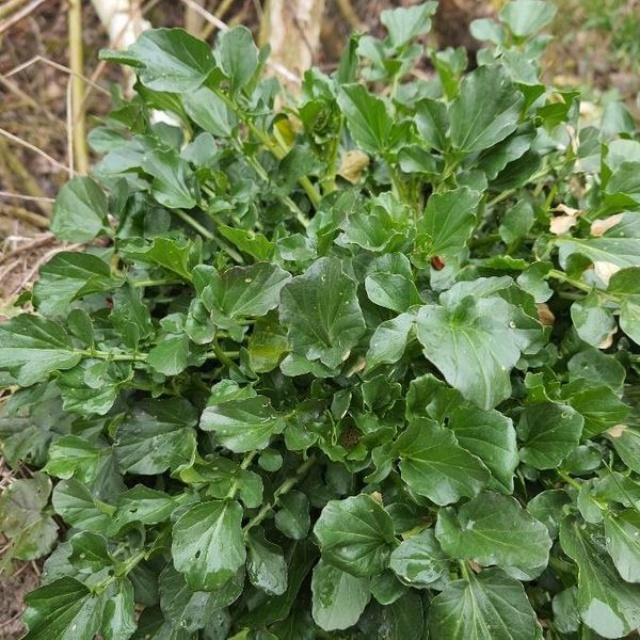obstacle: (98, 73, 583, 628)
